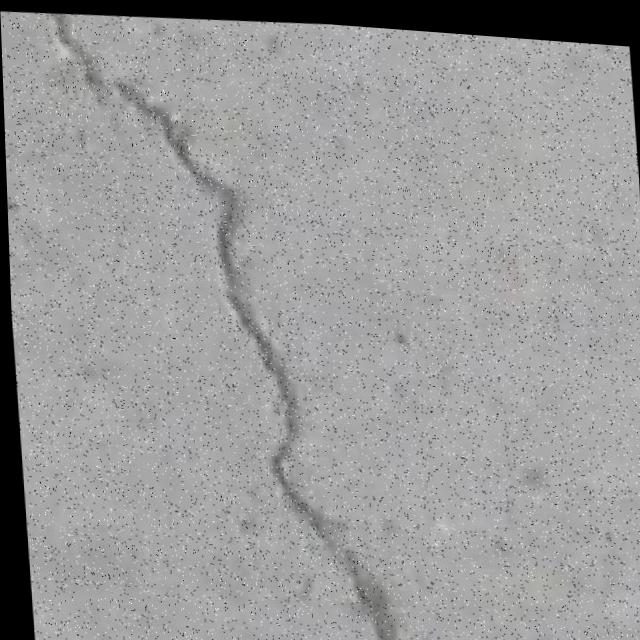Crack: (58, 3, 412, 640)
